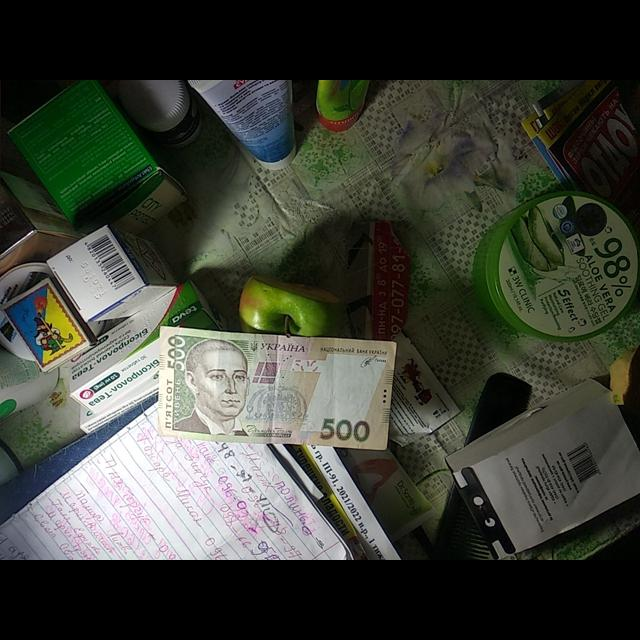500uah: (156, 324, 396, 450)
